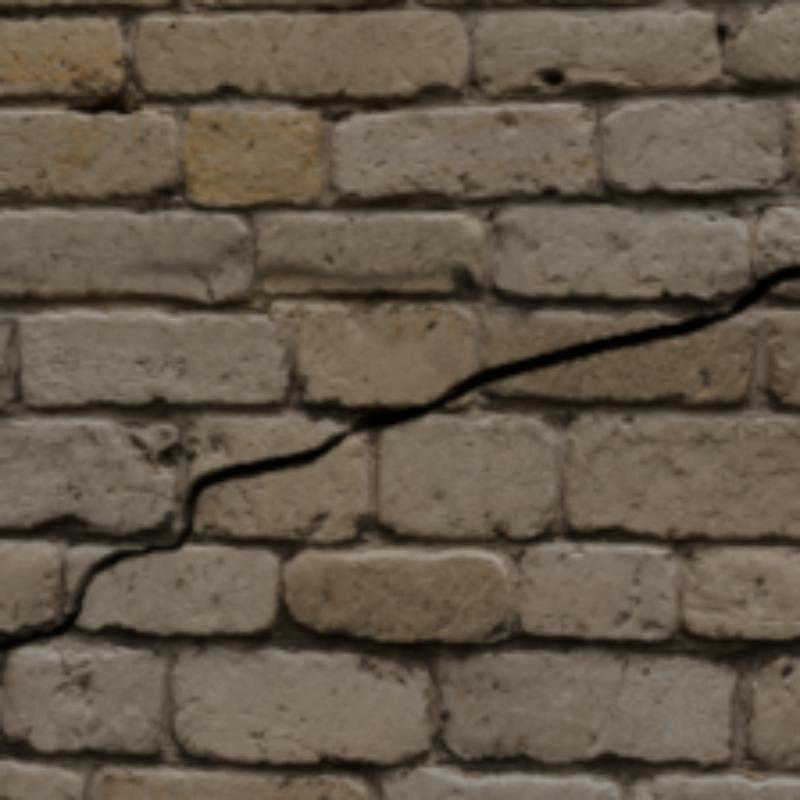pothole: (0, 264, 796, 650)
